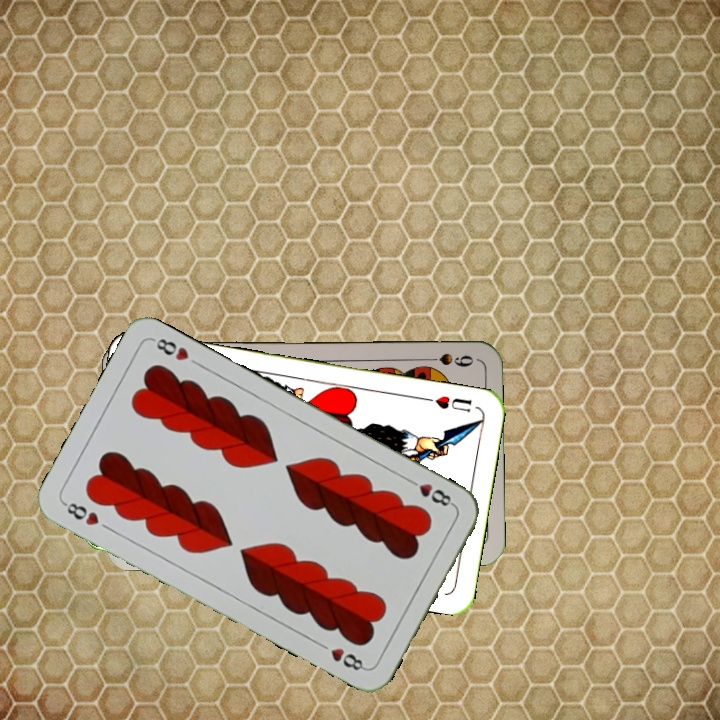H8: (403, 474, 457, 509), (59, 497, 102, 529)
HU: (420, 391, 475, 415)
S9: (417, 349, 476, 369)
